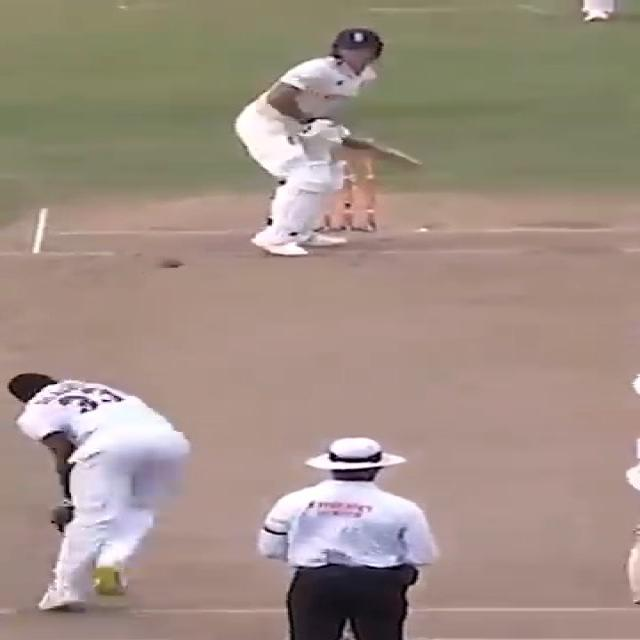ball: (152, 252, 190, 272)
stump: (335, 140, 377, 236)
